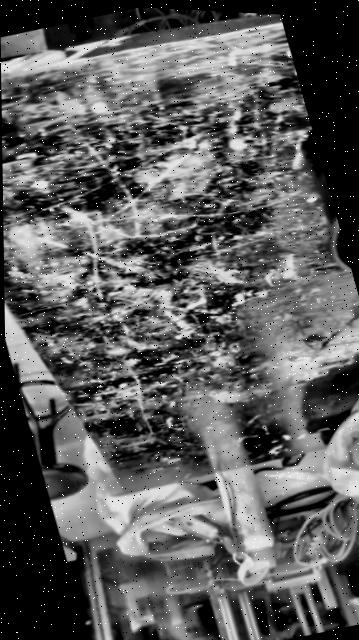pot: (302, 130, 351, 271)
